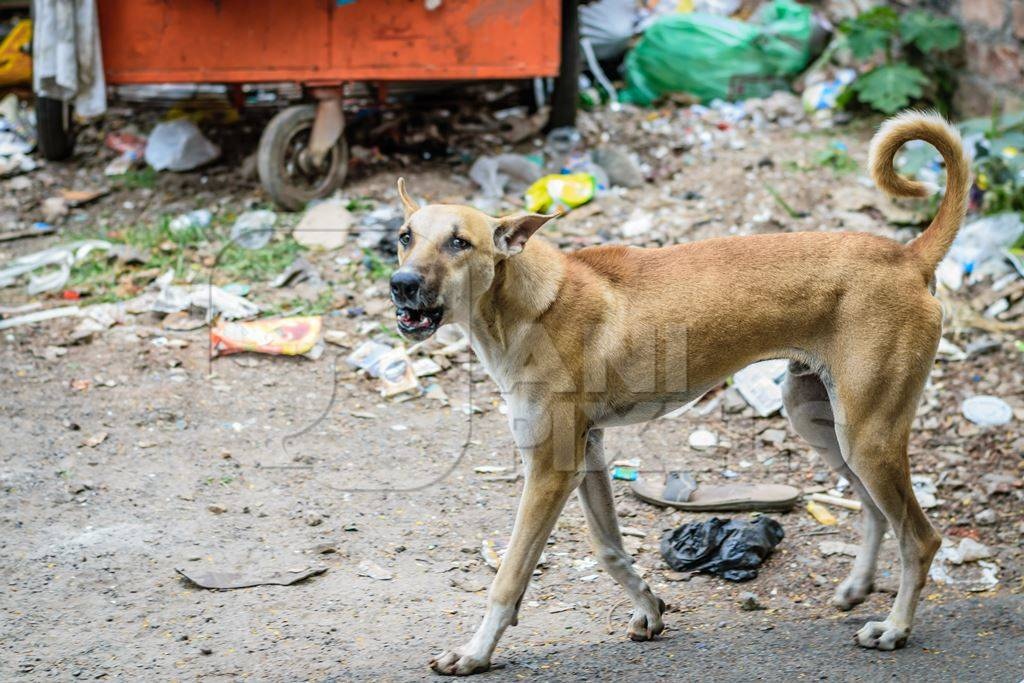Dog: (360, 114, 979, 673)
